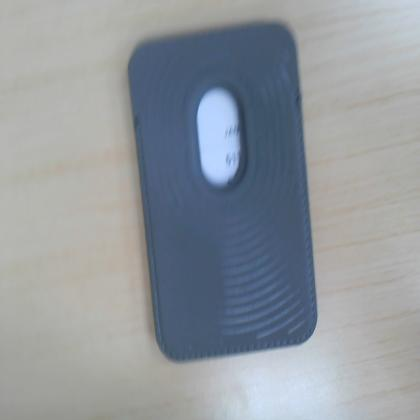pics: (129, 24, 316, 360)
